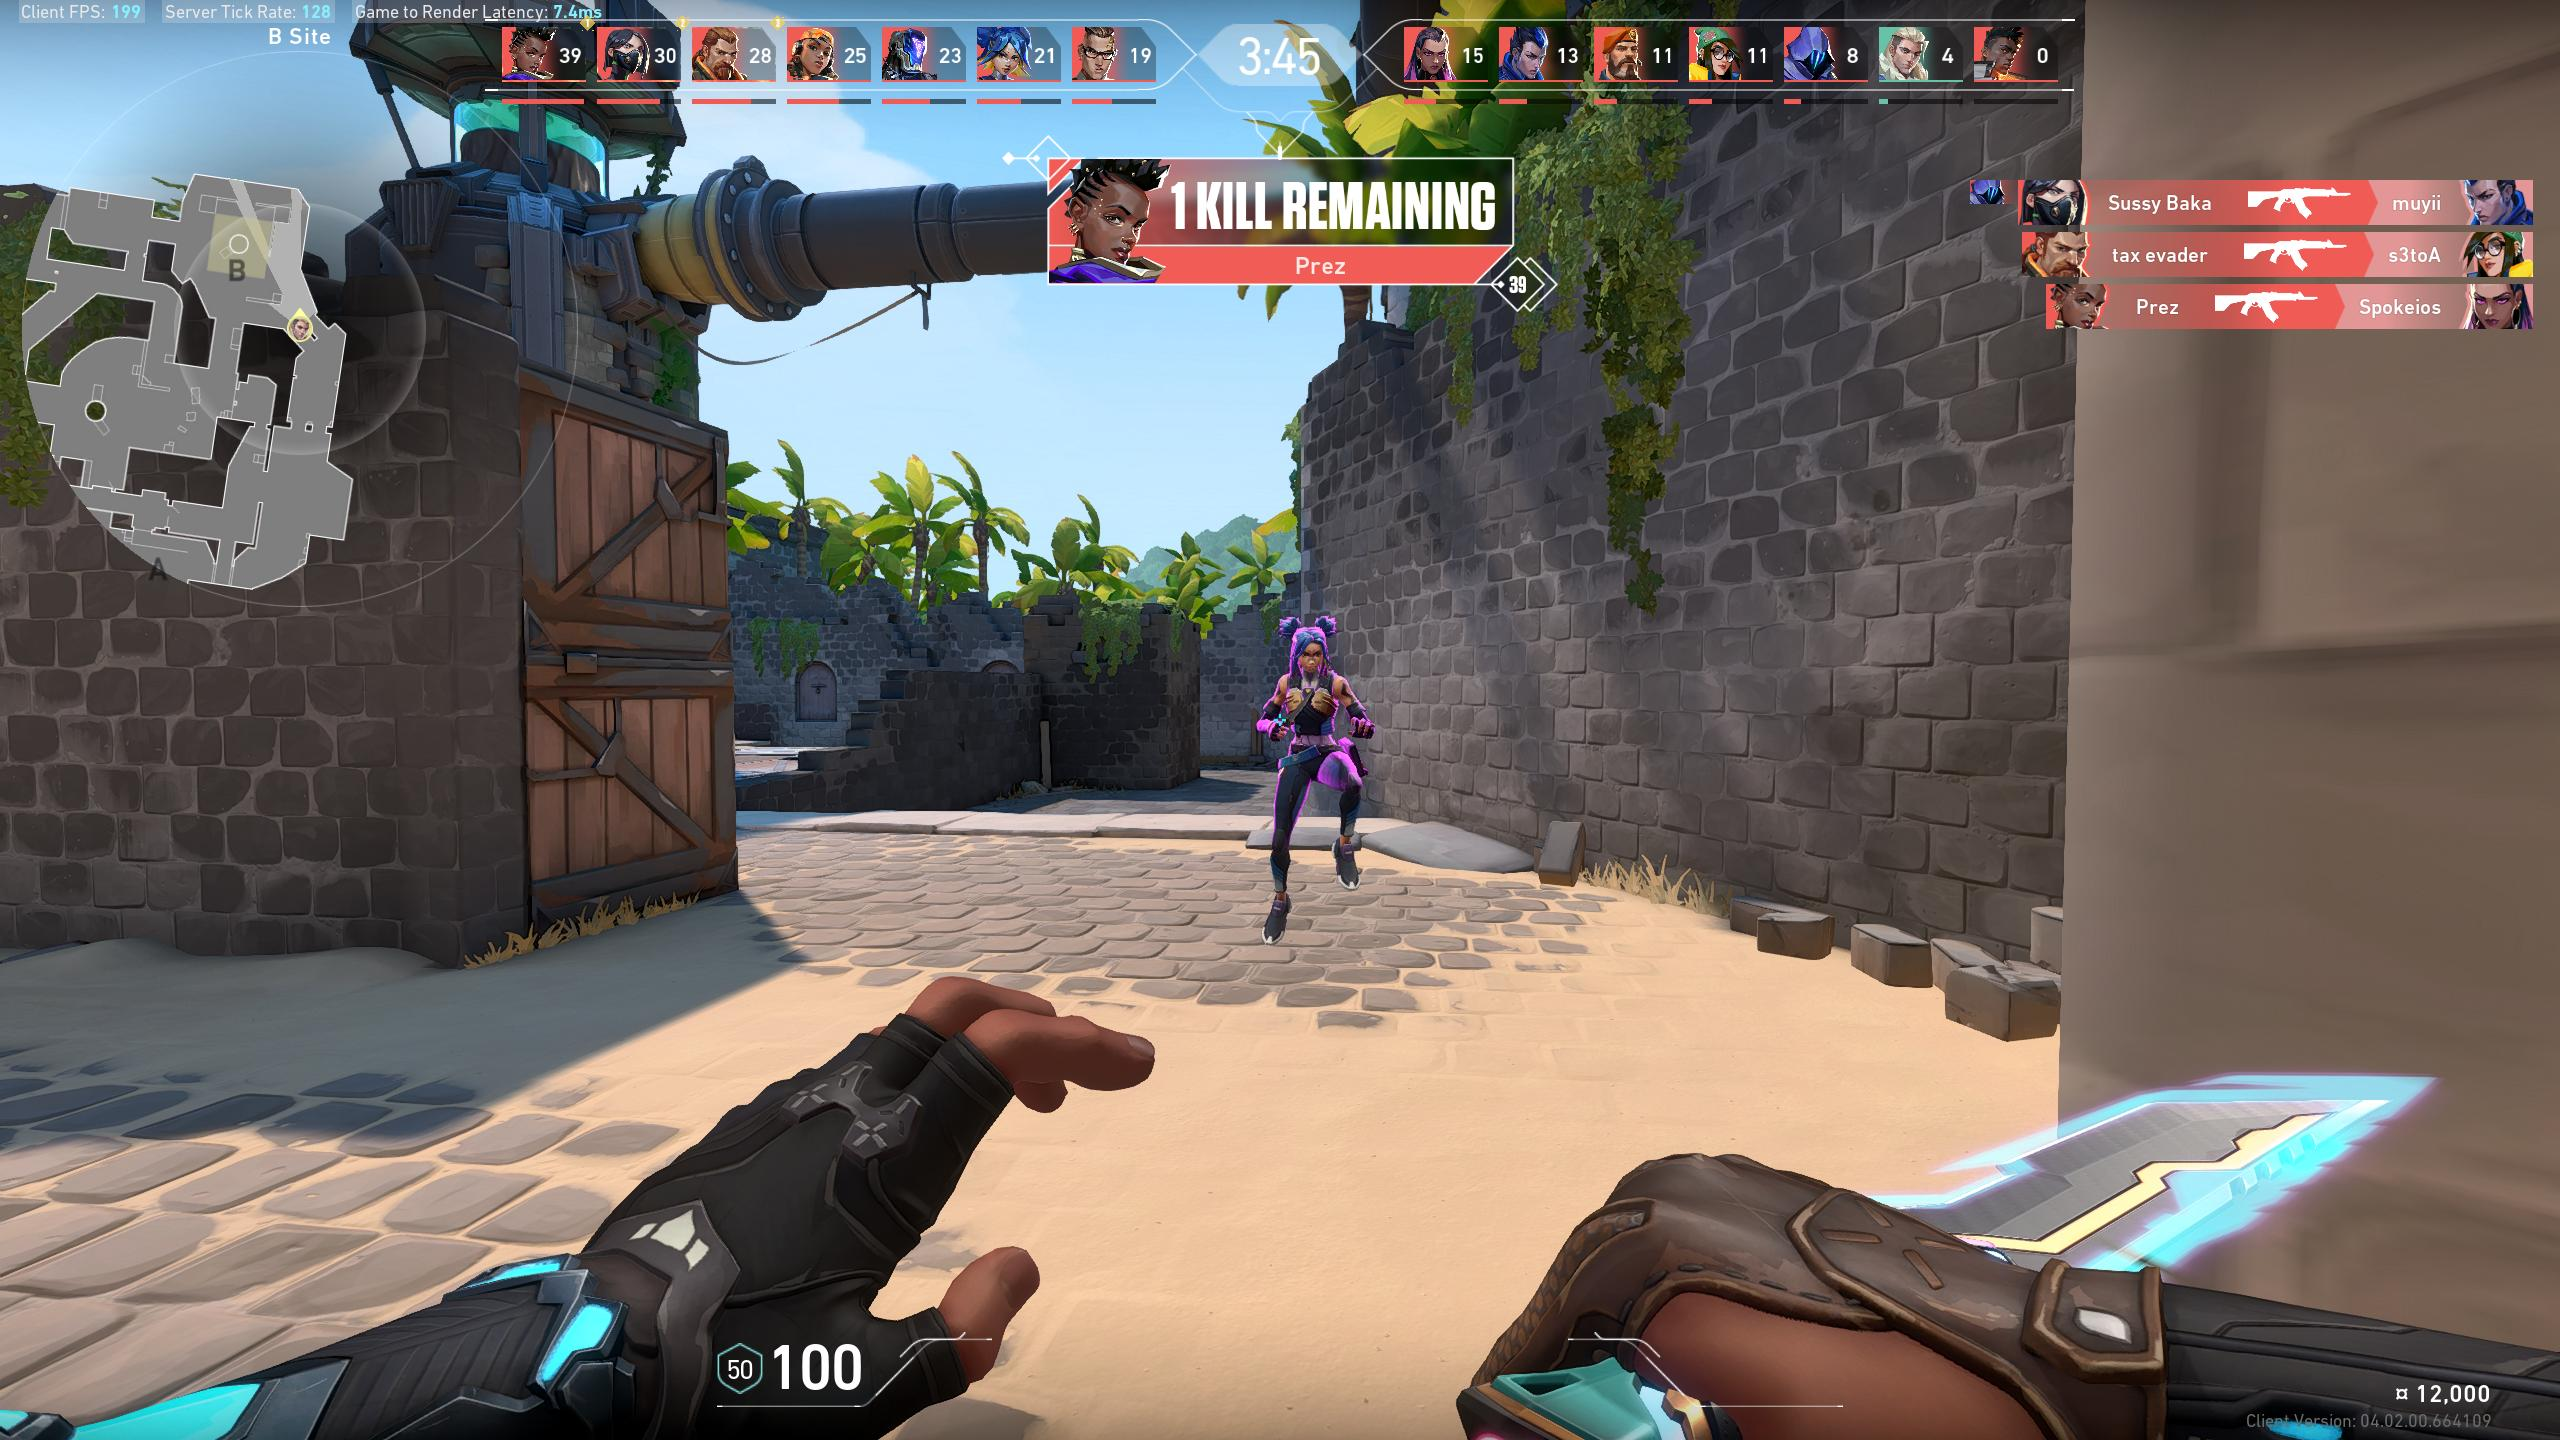enemyBody: (1287, 680, 1333, 737)
enemyHead: (1299, 638, 1320, 673)
